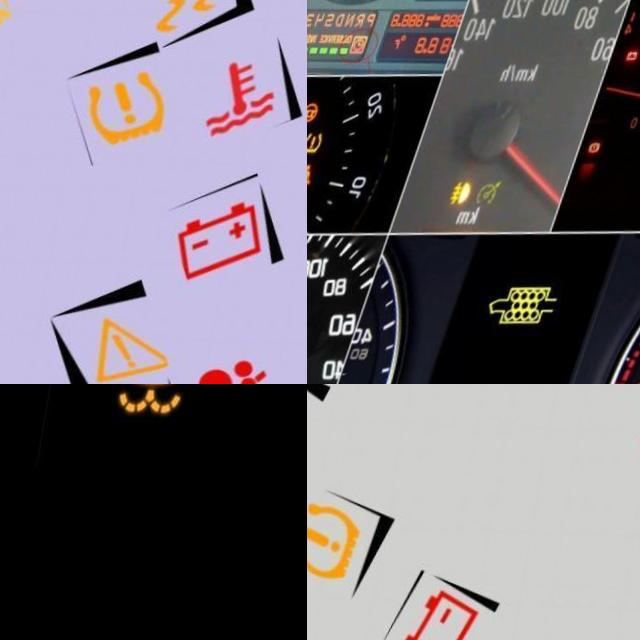Electronic Power Steering: (307, 99, 328, 123)
Seat Belt: (307, 162, 326, 189)
